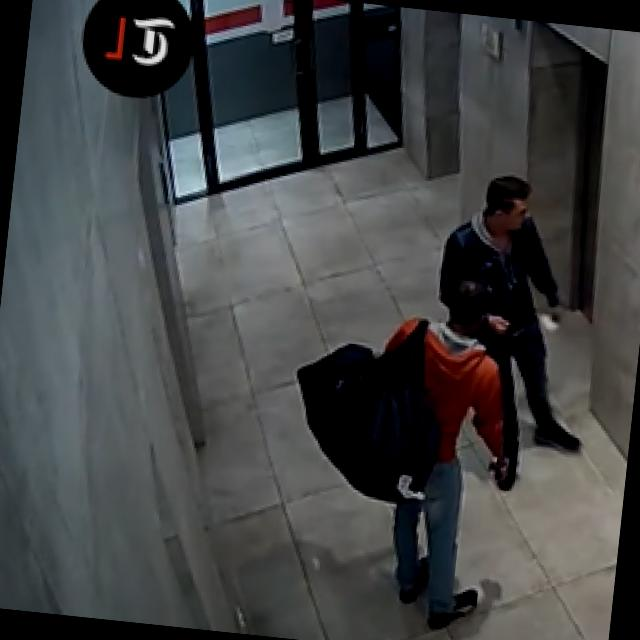person: (349, 270, 533, 636), (420, 168, 610, 491)
